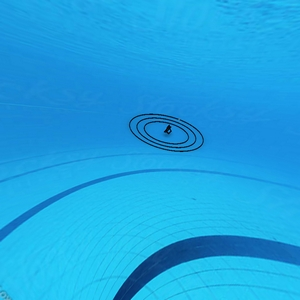circle: (127, 108, 207, 155)
submarine: (164, 125, 172, 134)
